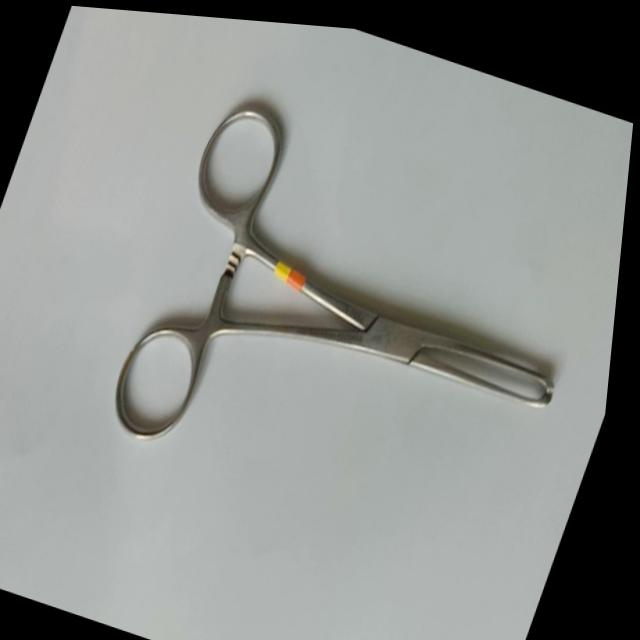AllisForcep: (101, 81, 622, 556)
